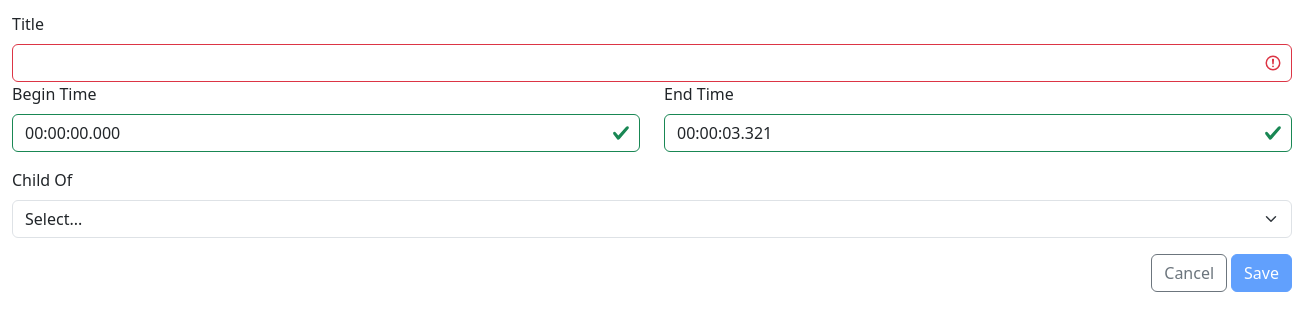
Timespan component › flat (non-nested) timespans › and validates › timespan title
# Title is less than 2 characters and is invalid
Type "N" into the field with test id "timespan-form-title". click: (652, 63)
box: [12, 44, 1292, 82]
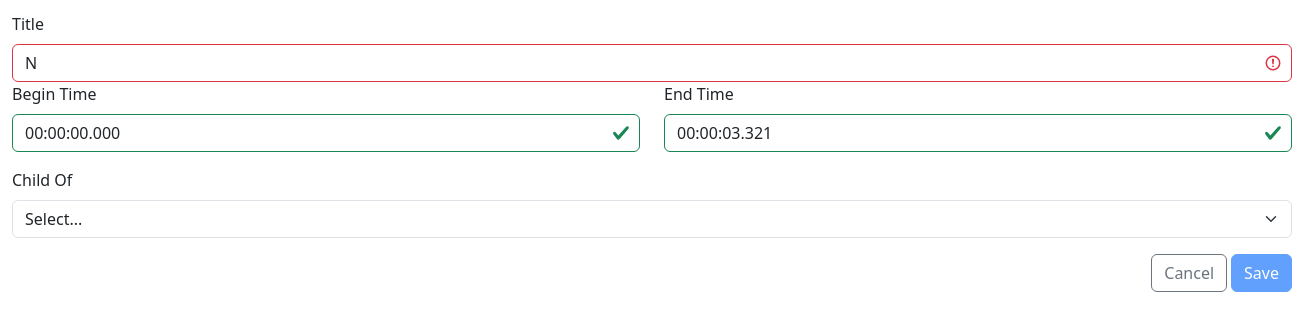
Expected: the button with test id "timespan-form-save-button" is disabled, [1231, 254, 1292, 292]
# Title is more than 2 characters and is valid
Replace the text in the field with test id "timespan-form-title" with "New Timespan". click: (652, 63)
box: [12, 44, 1292, 82]
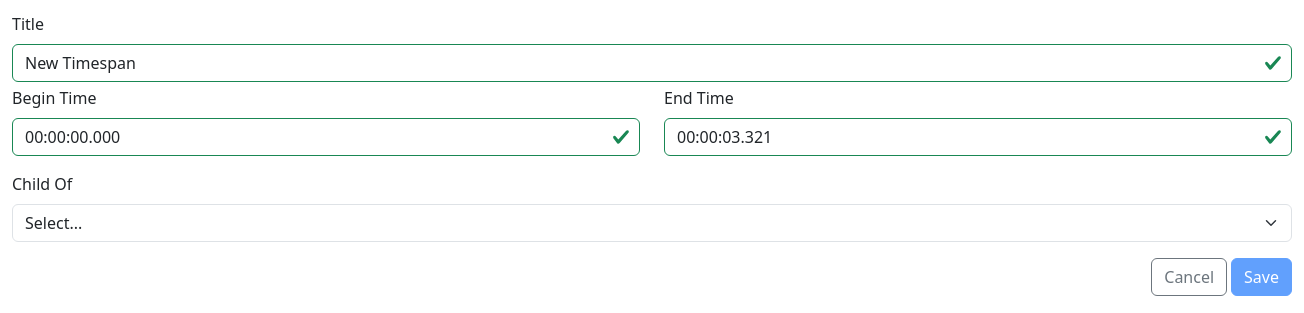
Expected: the button with test id "timespan-form-save-button" is disabled, [1231, 258, 1292, 296]
Select "Sub-Segment 1.1" in the dropdown labelled "Child Of". click: (652, 223)
box: [12, 204, 1292, 242]
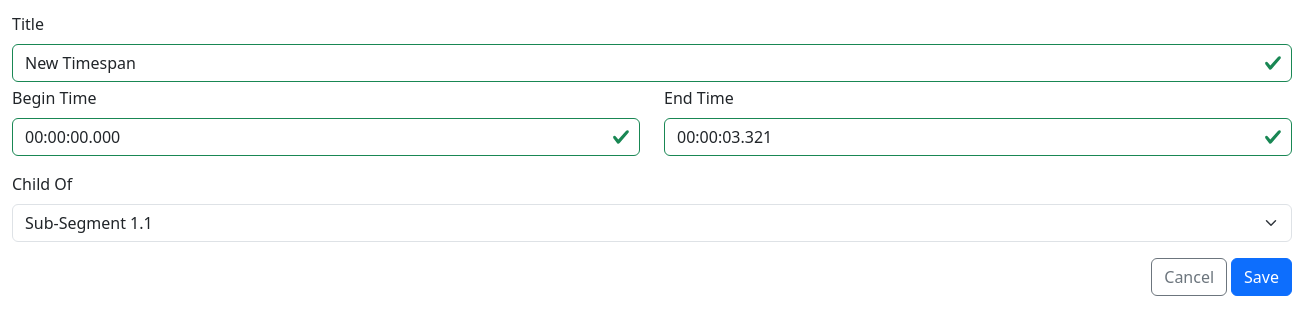
Result: the button with test id "timespan-form-save-button" is enabled at [1231, 258, 1292, 296]
